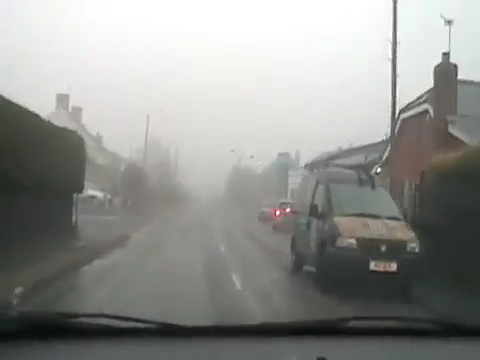car: (289, 169, 422, 298), (68, 182, 115, 207), (272, 201, 298, 231), (257, 204, 277, 222)
